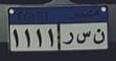1: (24, 28, 31, 48), (48, 27, 54, 47), (36, 28, 42, 47), (13, 29, 18, 47)
noon: (93, 27, 105, 46)
raa: (62, 32, 74, 45)
seen: (76, 30, 90, 45)
